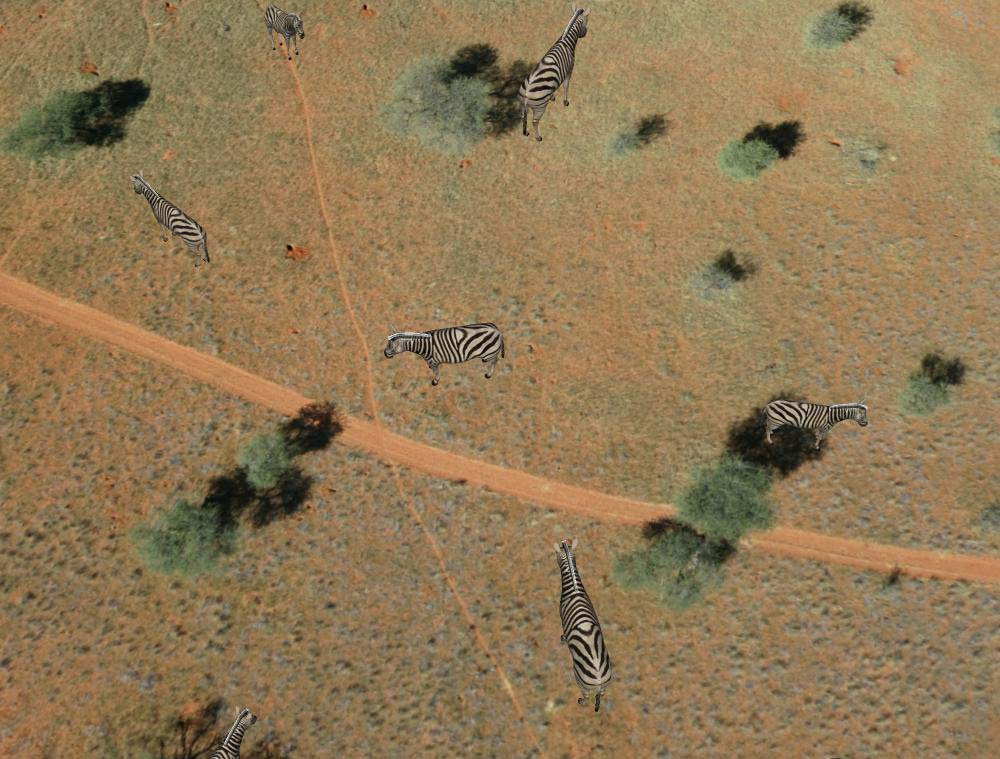zebra: (550, 539, 615, 716), (515, 7, 591, 145), (126, 172, 220, 280), (383, 323, 507, 391), (756, 389, 874, 451), (255, 1, 312, 58), (188, 712, 256, 759)
